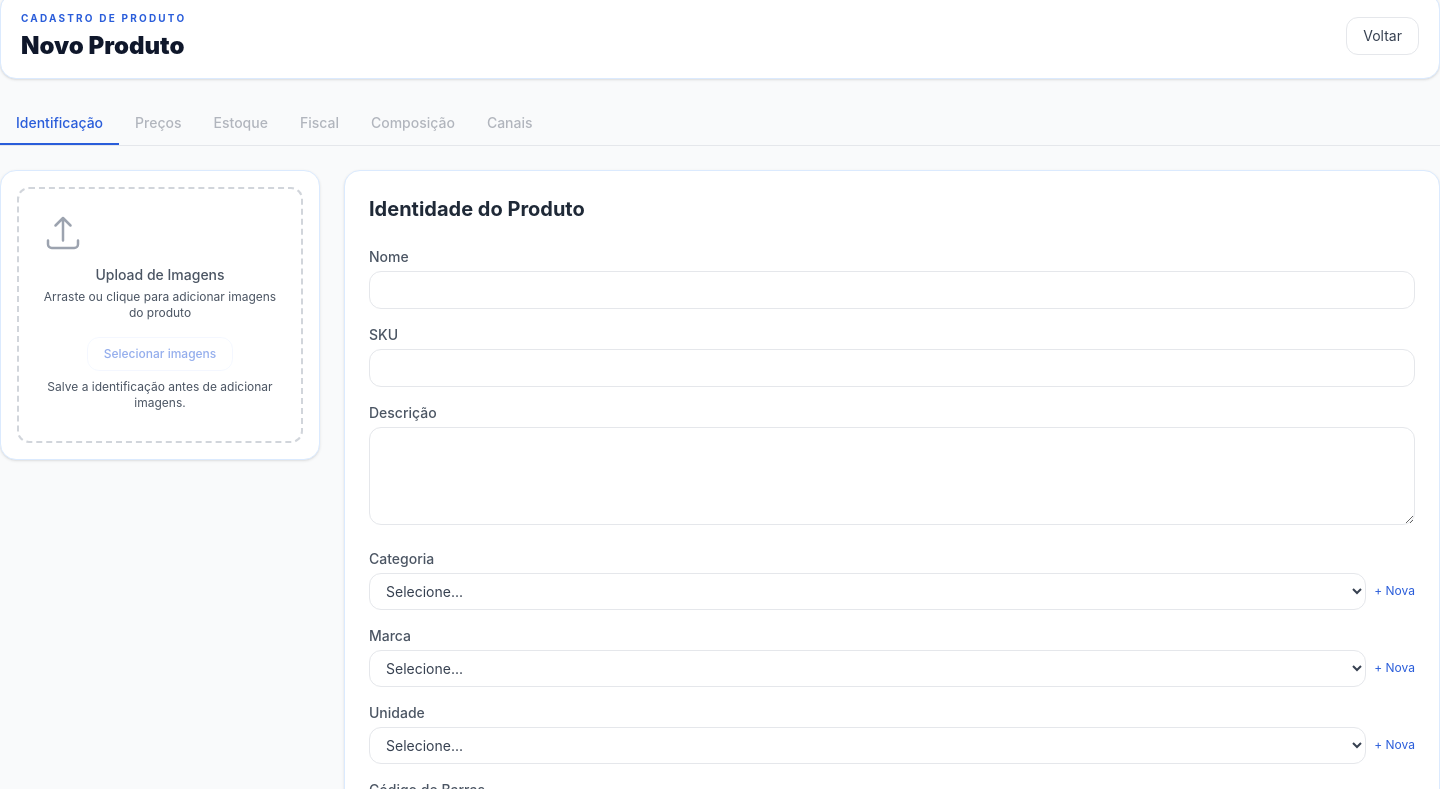
Scenario: ProductsPage › shows error on 409 conflict for product
In the field labelled "Nome": [892, 290] box [369, 271, 1415, 309], type "Conflito"
(page scrolled)
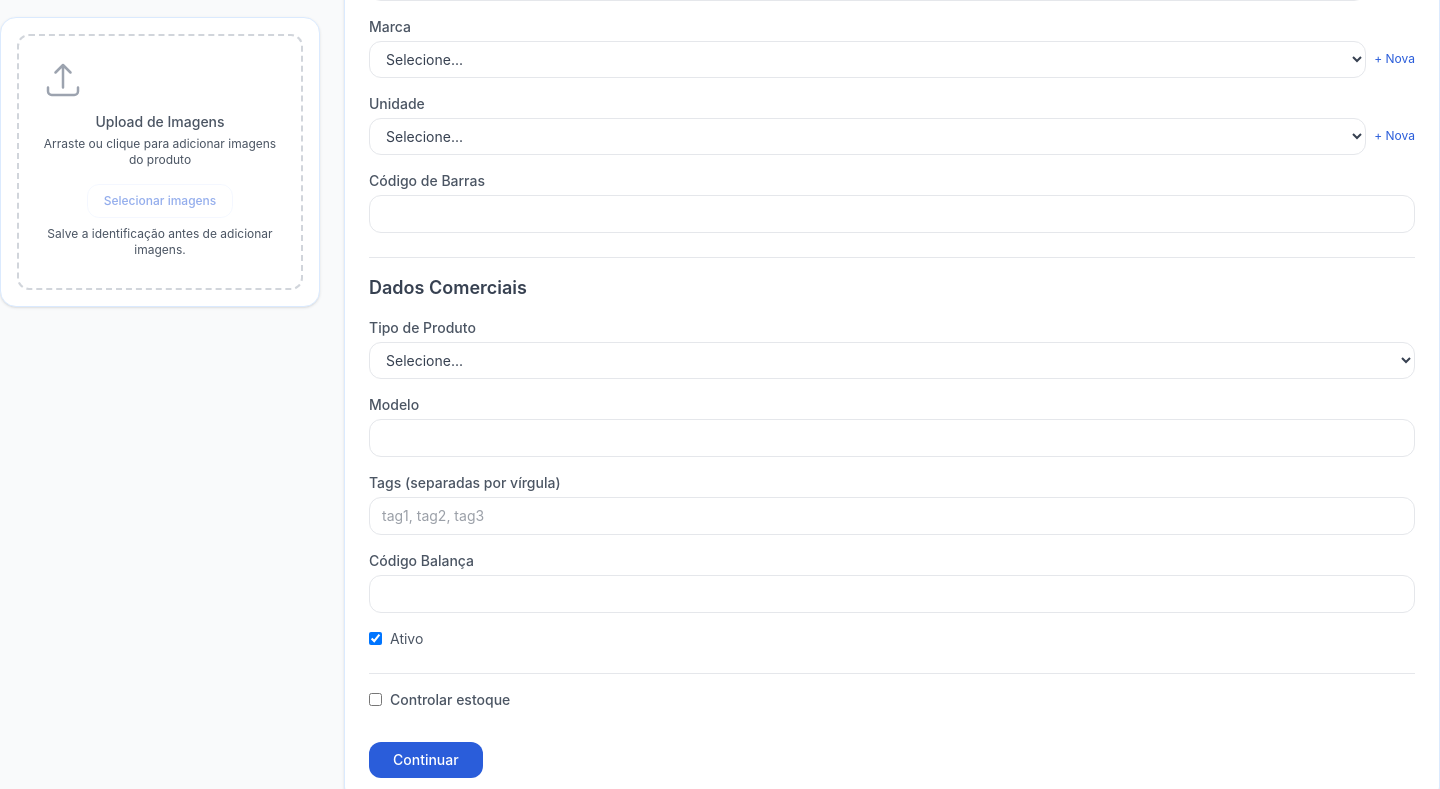
Click the button "Continuar": [426, 760] box [369, 742, 483, 778]
(page scrolled)
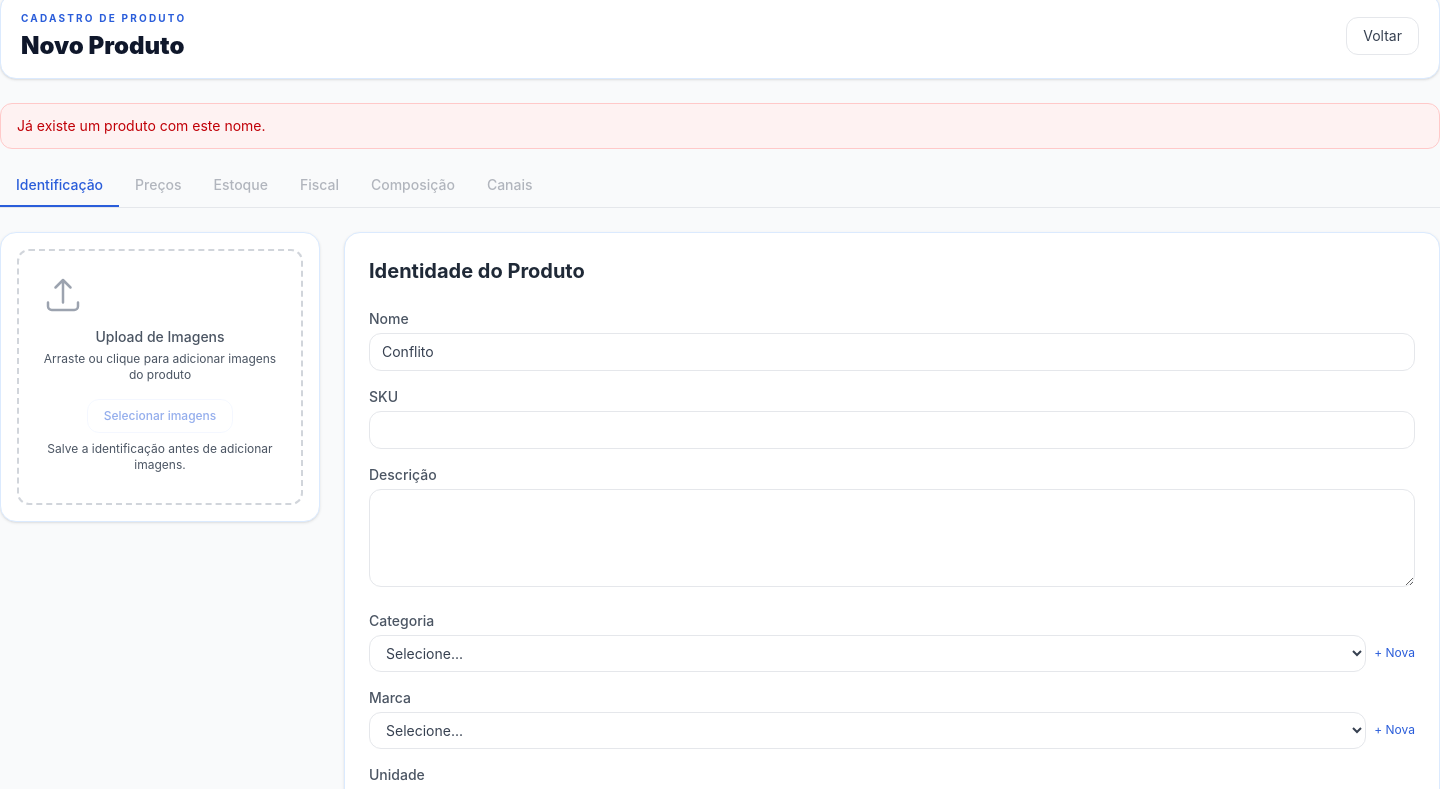
Check: the message with test id "editor-feedback" shows "Já existe", box [17, 117, 266, 134]
